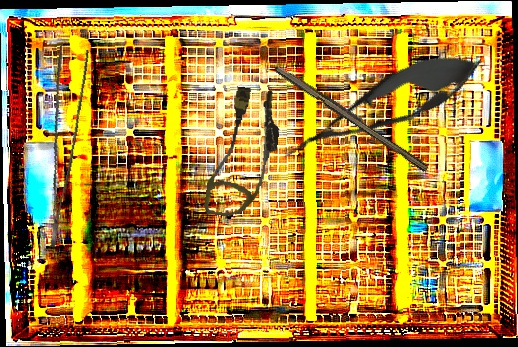Cannula: (203, 84, 285, 222)
Micro Scissor: (271, 34, 492, 180)
Scalpel Handle: (272, 62, 432, 173)
Tissue Forceps: (16, 44, 100, 247)
